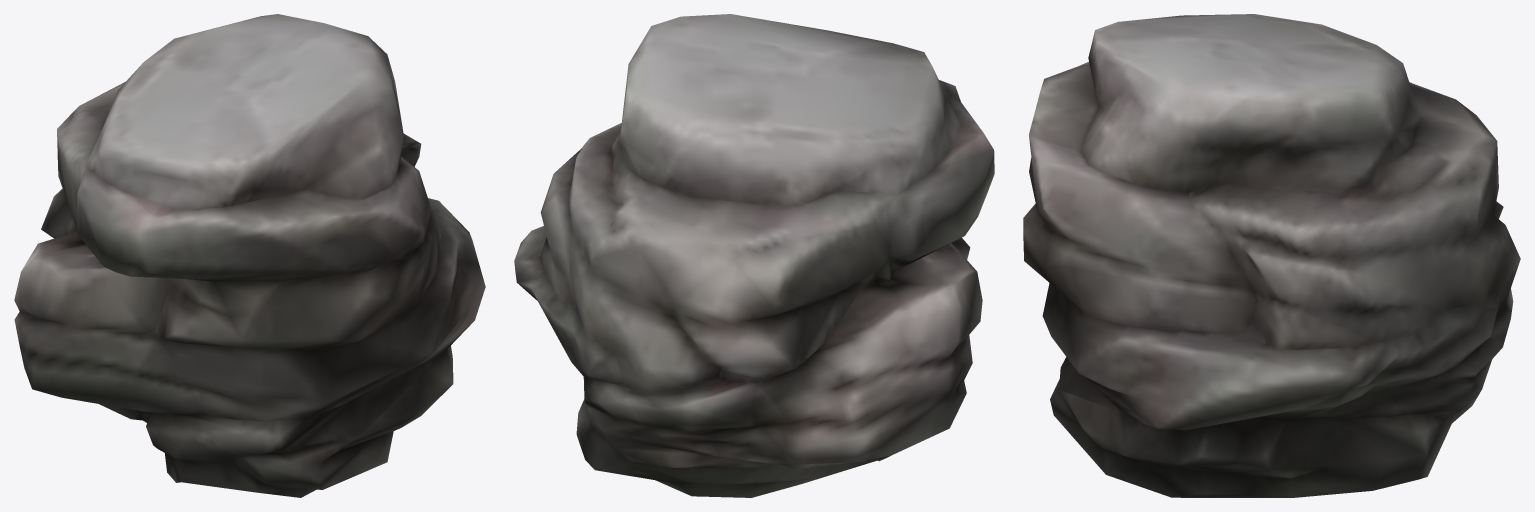
Rendered from rock-mid-1.lod0.glb.
The picture shows the model from 3 angles, left to right: view 1: azimuth 30°, elevation 25°; view 2: azimuth 150°, elevation 25°; view 3: azimuth 270°, elevation 25°; orthographic projection. The views are drawn at different scales.
Parts seen in each view (by area): view 1: Mid_1_MID_0; view 2: Mid_1_MID_0; view 3: Mid_1_MID_0.
Boxes of the visible parts, left/top/right/bottom form: Mid_1_MID_0: left=14, top=14, right=485, bottom=497; Mid_1_MID_0: left=514, top=14, right=994, bottom=497; Mid_1_MID_0: left=1023, top=14, right=1520, bottom=497.
Bounding box in the file's own units: 3.5 × 3.07 × 3.27.
Materials: 1 (1 with a texture image).
